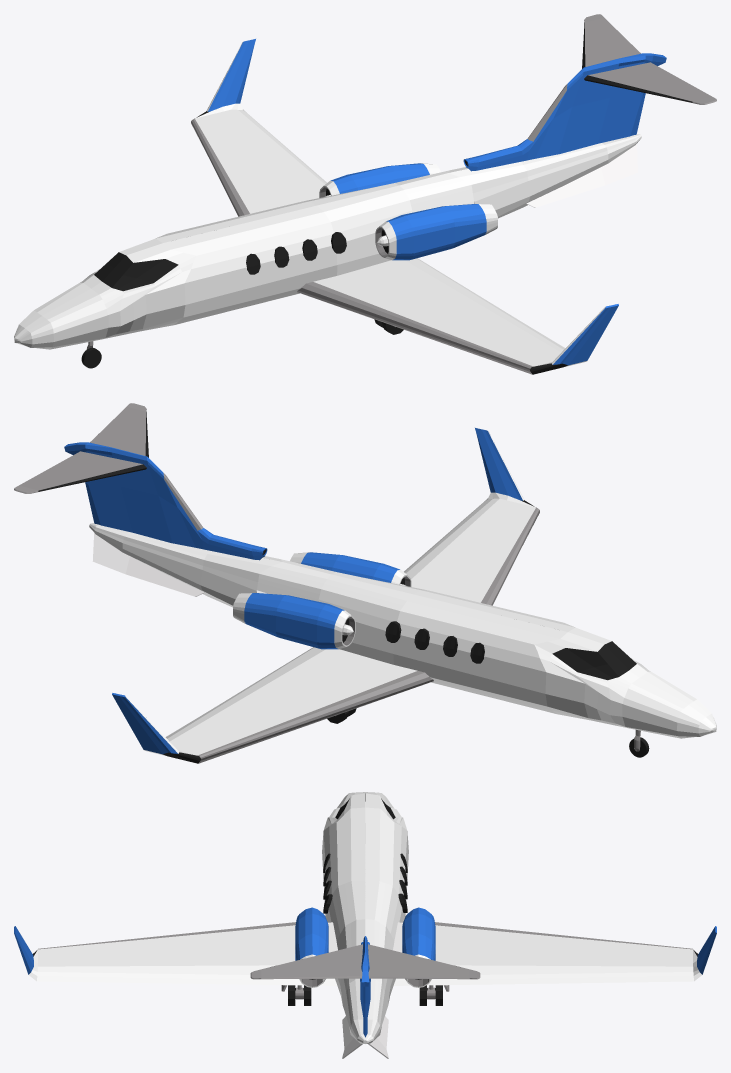
Rendered from private-jet.glb.
3 renders of one model, top to bottom at view 1: azimuth 30°, elevation 25°; view 2: azimuth 150°, elevation 25°; view 3: azimuth 270°, elevation 25°, orthographic. The views are drawn at different scales.
Visible parts, largest first — view 1: Object_4, Object_5, Object_30, Object_28; view 2: Object_4, Object_5, Object_30, Object_28; view 3: Object_4, Object_5, Object_30, Object_28.
Part boxes in pixels (box(x1,y1,x2,y2)): Object_4: box(14, 42, 641, 366); Object_5: box(81, 23, 692, 374); Object_30: box(86, 14, 716, 374); Object_28: box(463, 144, 638, 207); Object_4: box(89, 431, 716, 755); Object_5: box(38, 412, 649, 763); Object_30: box(14, 403, 640, 763); Object_28: box(92, 533, 267, 596); Object_4: box(29, 792, 701, 1043); Object_5: box(14, 793, 716, 1037); Object_30: box(38, 922, 692, 999); Object_28: box(328, 922, 402, 1058).
Size of the model in its own units: 42.08 by 11.26 by 40.76.
Materials: 4 (4 with a texture image).
